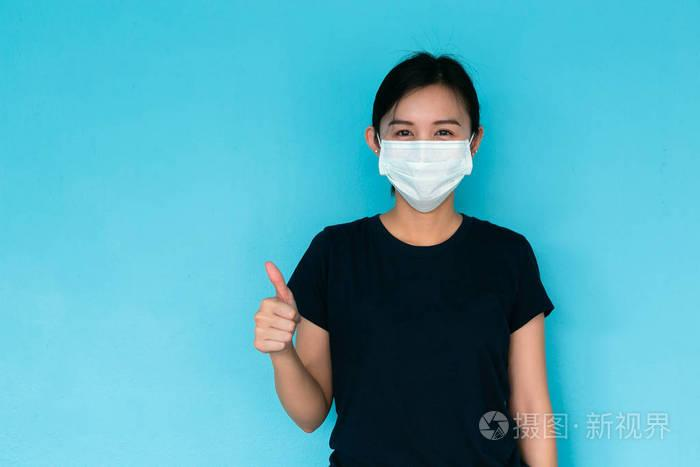mask: (378, 75, 483, 210)
